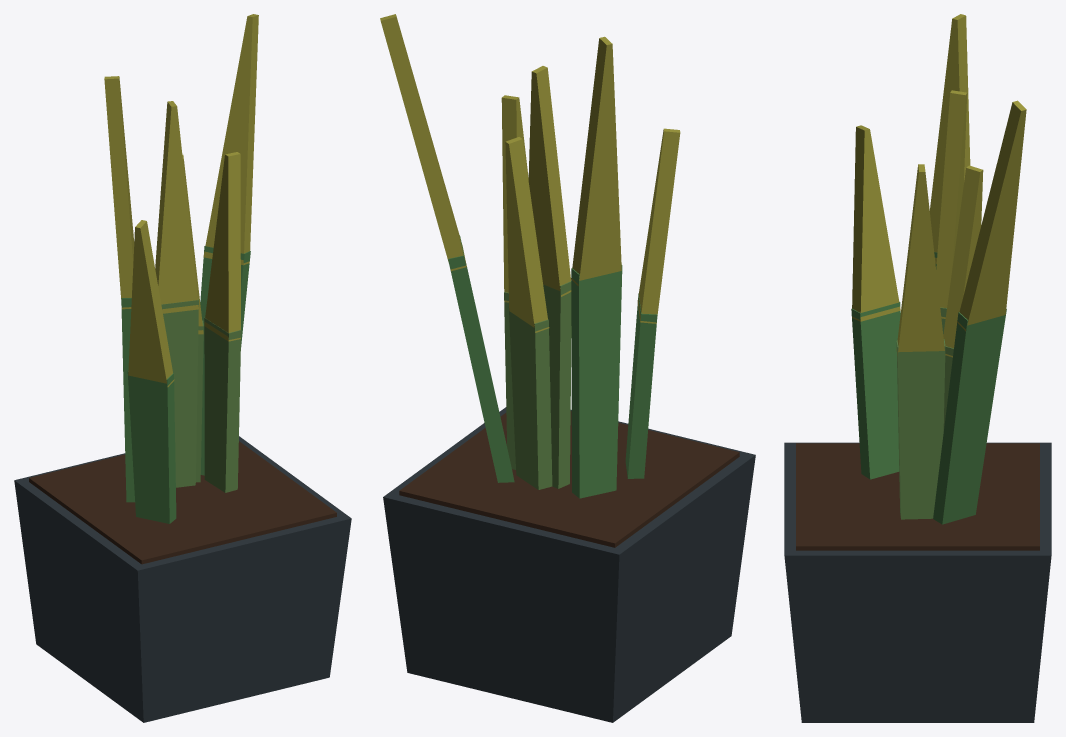
Rendered from potted-plant-00.glb.
3 views of the same model, side by side, from view 1: azimuth 30°, elevation 25°; view 2: azimuth 150°, elevation 25°; view 3: azimuth 270°, elevation 25° (orthographic). The views are drawn at different scales.
Parts seen in each view (by area): view 1: potted_plant_00; view 2: potted_plant_00; view 3: potted_plant_00.
Boxes of the visible parts, box(x1,y1,x2,y2) form: potted_plant_00: box(14, 14, 351, 722); potted_plant_00: box(380, 14, 755, 722); potted_plant_00: box(784, 14, 1051, 722).
Size of the model in its own units: 0.3594 by 0.8697 by 0.3334.
